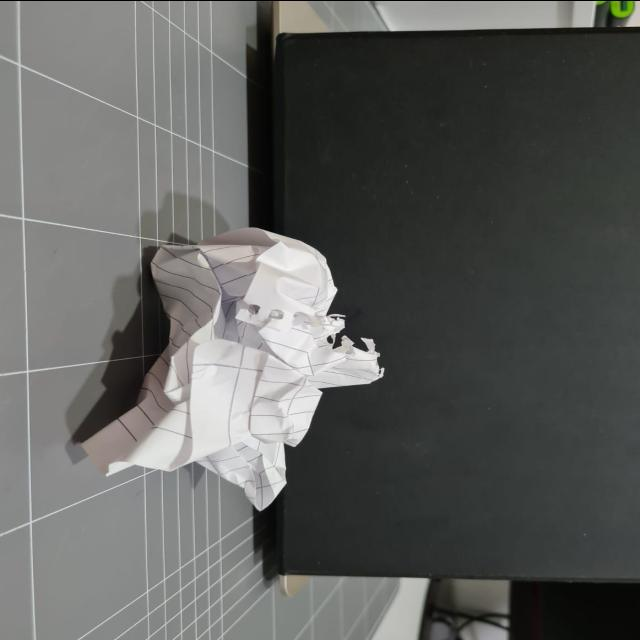kertas: (98, 222, 378, 520)
